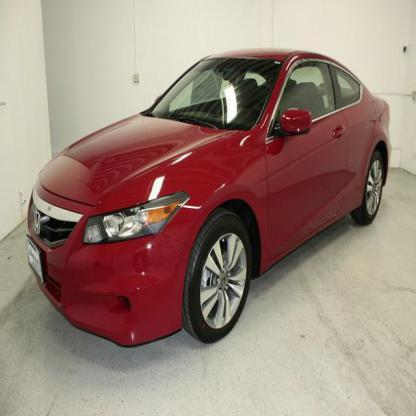car: (26, 51, 392, 348)
